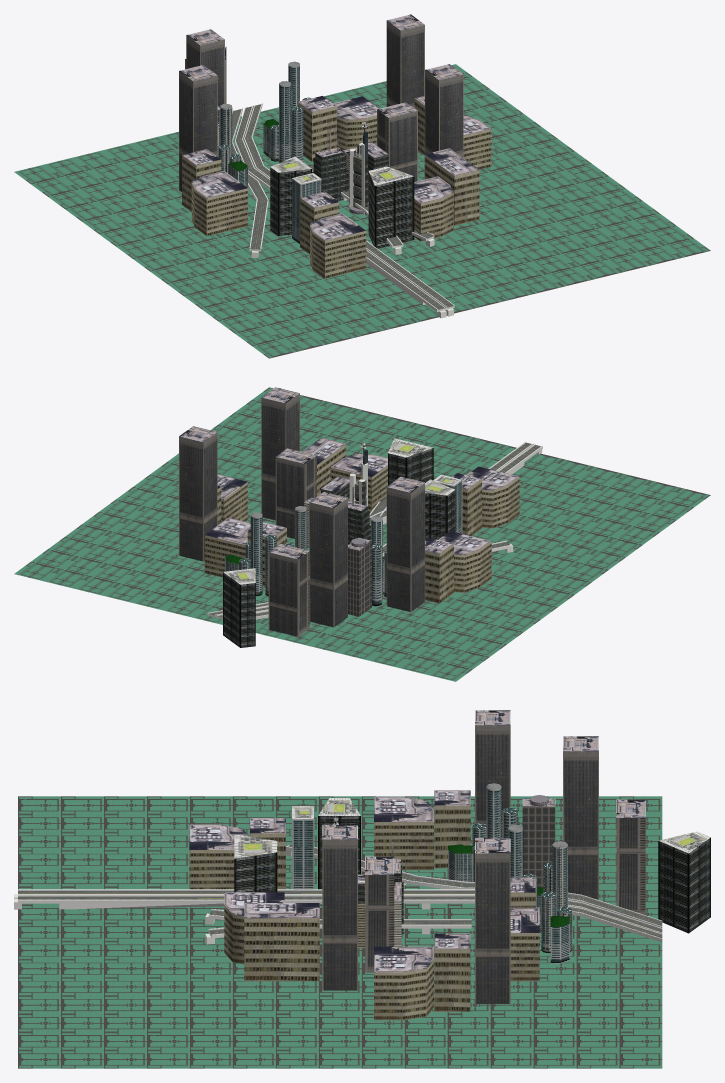
File: mitakihara_town_title.fbx
3 renders of one model, top to bottom at view 1: azimuth 30°, elevation 25°; view 2: azimuth 150°, elevation 25°; view 3: azimuth 270°, elevation 25°, orthographic. The views are drawn at different scales.
Visible parts, largest first — view 1: mitakihiara_town; view 2: mitakihiara_town; view 3: mitakihiara_town.
Boxes of the visible parts, box(x1,y1,x2,y2) form: mitakihiara_town: box(14, 14, 710, 358); mitakihiara_town: box(14, 387, 710, 681); mitakihiara_town: box(14, 710, 710, 1068).
Bounding box in the file's own units: 3000 × 776 × 3245.
